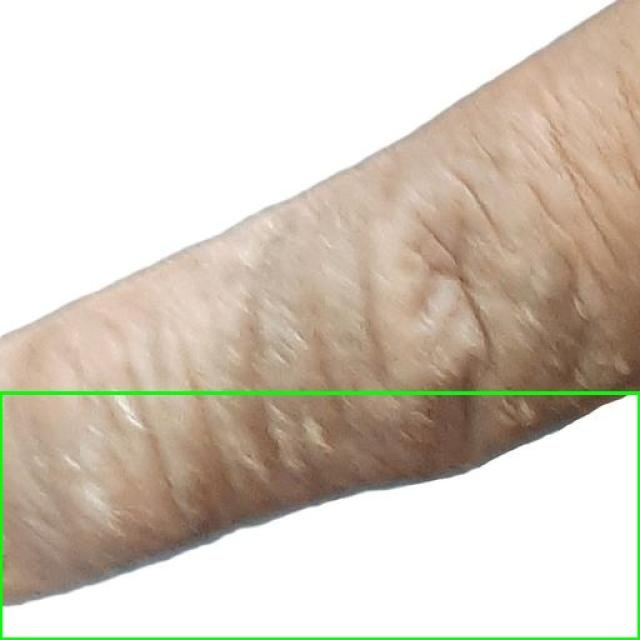Eczema: (0, 392, 639, 639)
